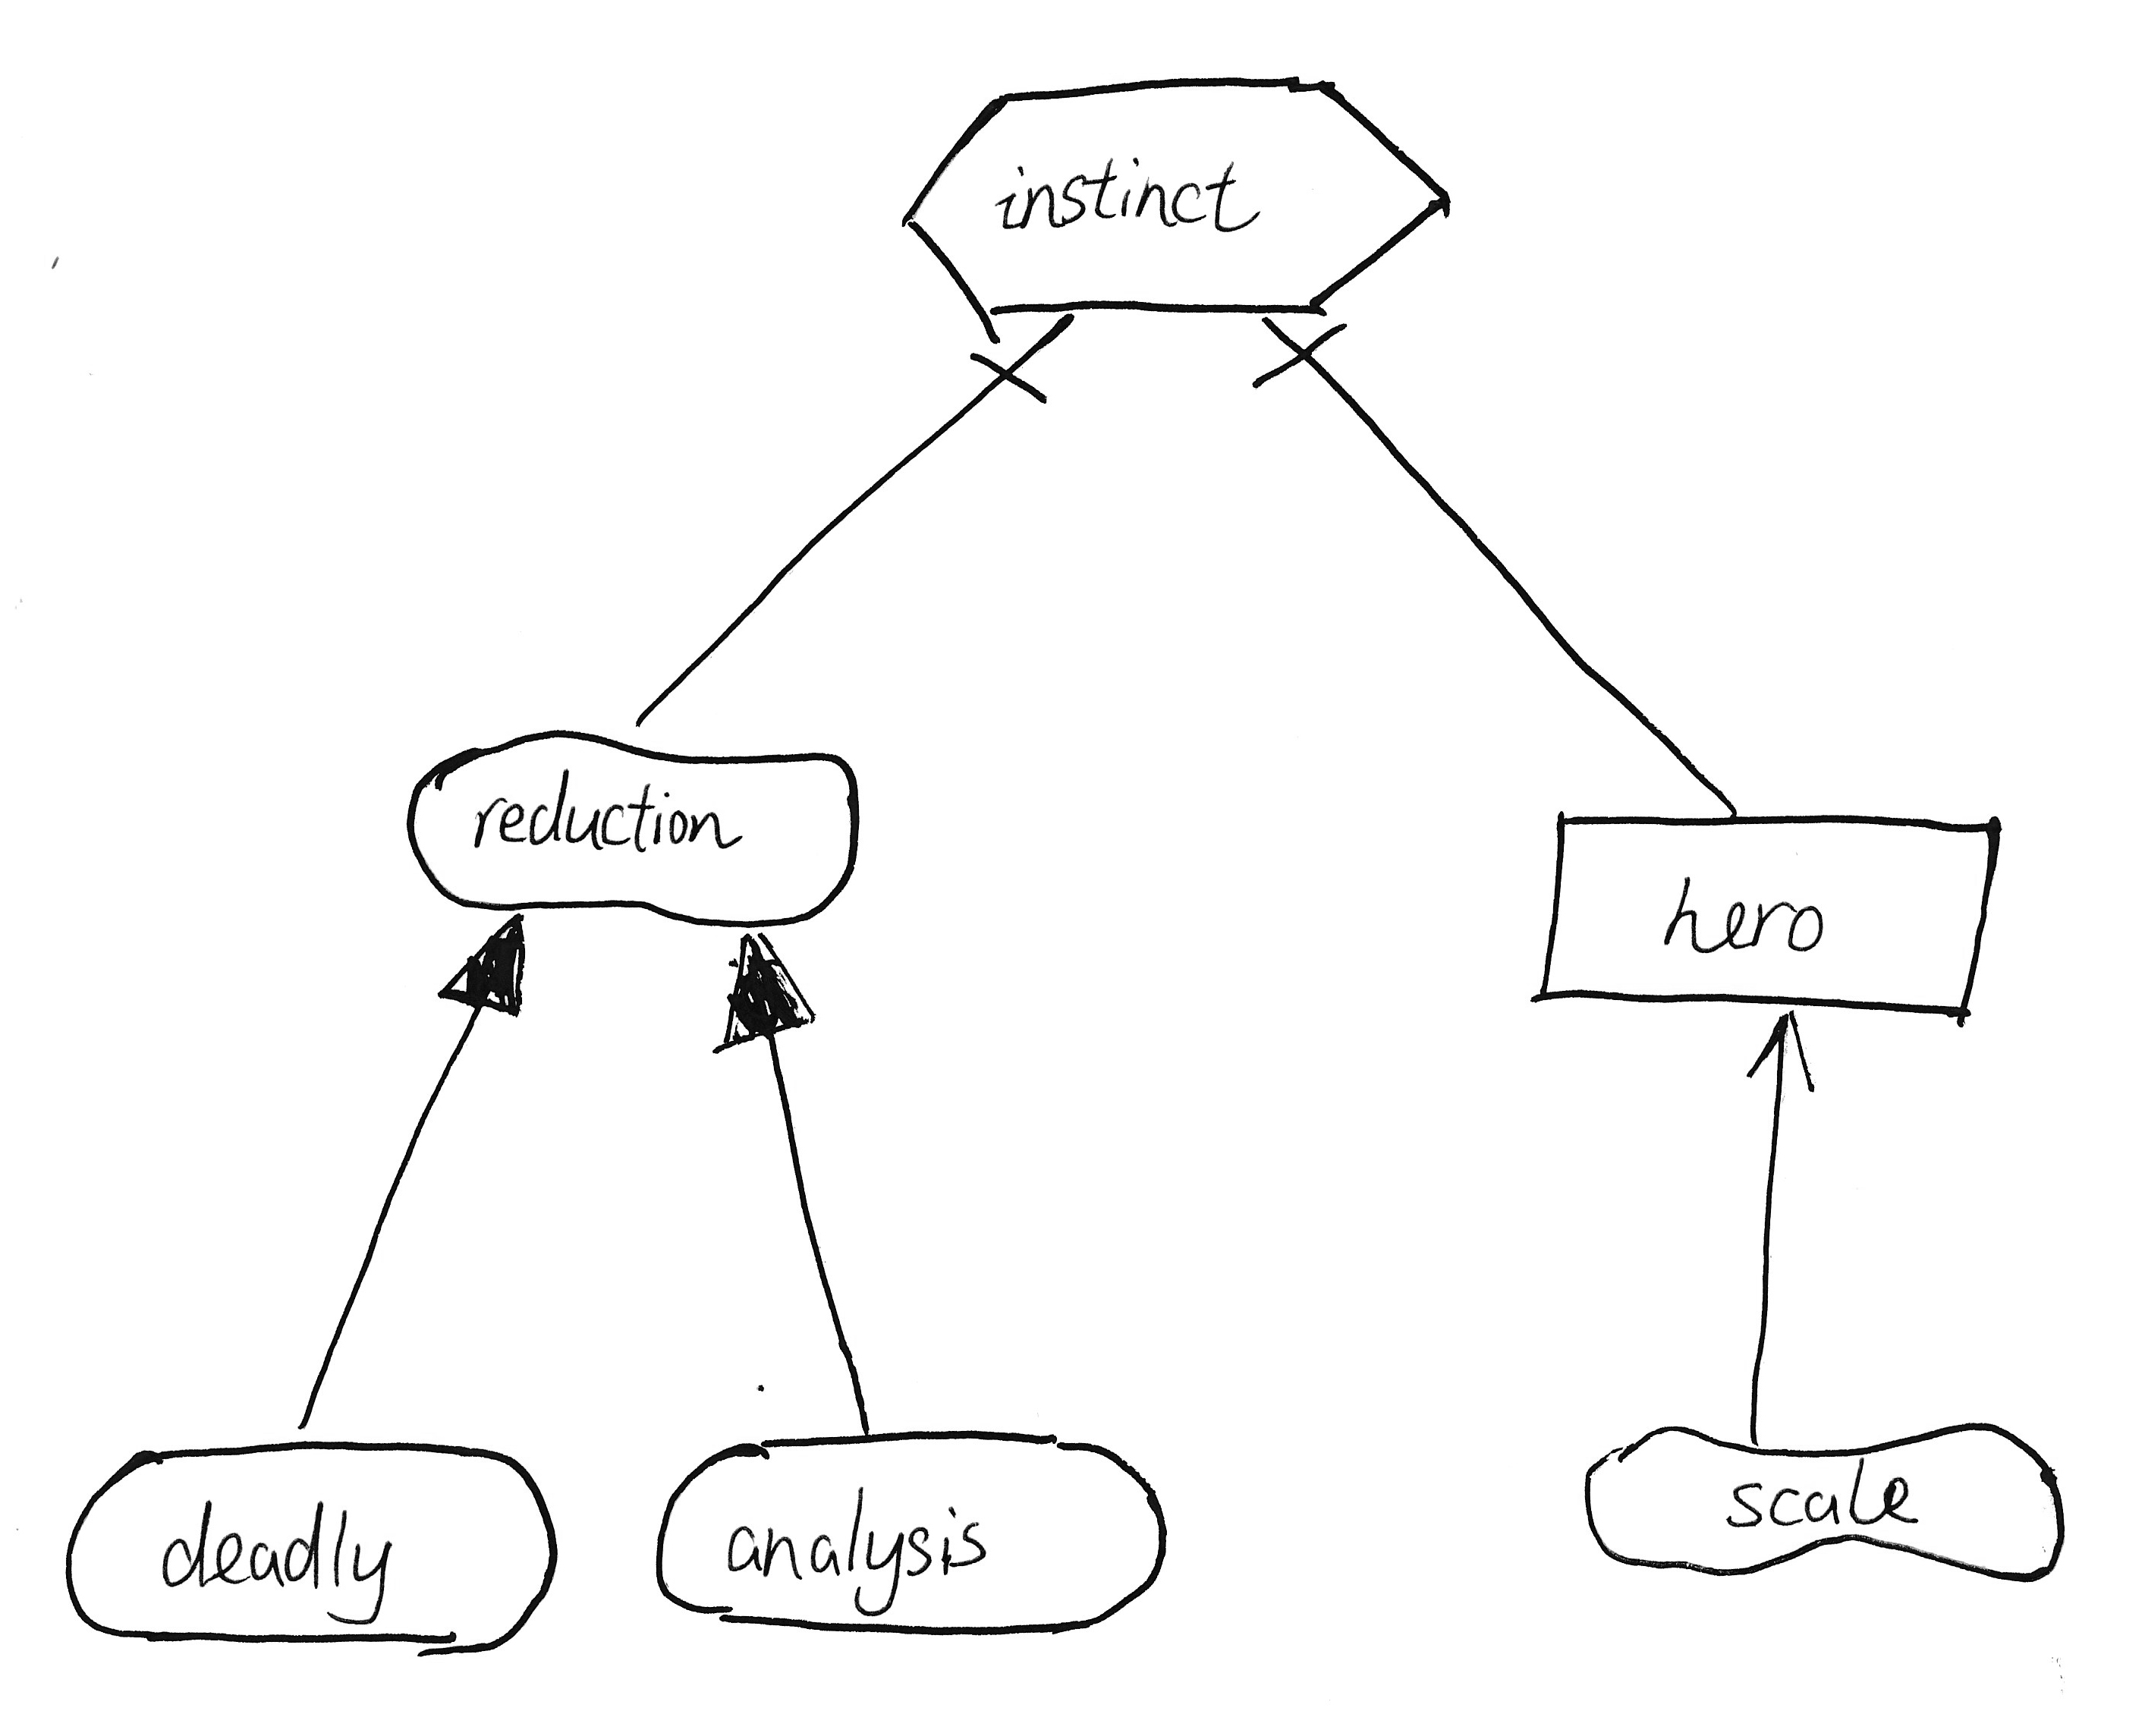and: (942, 321, 1091, 423), (1236, 310, 1385, 406)
arrow: (1743, 1006, 1840, 1107)
goal: (53, 1419, 574, 1672), (639, 1415, 1187, 1653)
or: (685, 925, 836, 1066), (429, 909, 542, 1029)
quality: (383, 709, 877, 944), (1566, 1412, 2074, 1607)
resource: (1516, 783, 2028, 1033)
task: (877, 50, 1488, 363)
